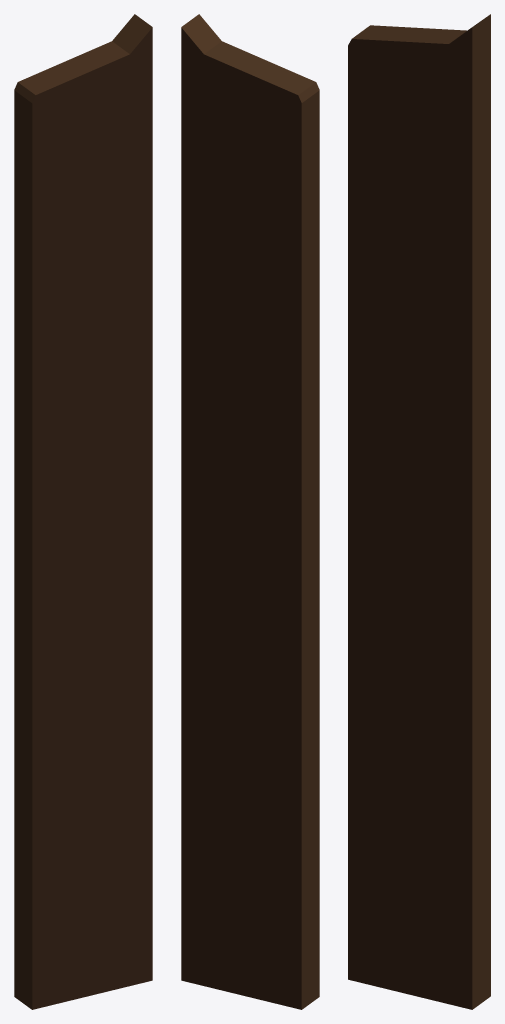
File: Cave_Lair_Wooden_Timber_Plank_05.fbx
3 views of the same model, side by side, from view 1: azimuth 30°, elevation 25°; view 2: azimuth 150°, elevation 25°; view 3: azimuth 330°, elevation 25° (orthographic). The views are drawn at different scales.
Parts seen in each view (by area): view 1: Cave_Lair_Wooden_Timber_Plank_05; view 2: Cave_Lair_Wooden_Timber_Plank_05; view 3: Cave_Lair_Wooden_Timber_Plank_05.
Boxes of the visible parts, x1=… form: Cave_Lair_Wooden_Timber_Plank_05: x1=14, y1=14, x2=152, y2=1009; Cave_Lair_Wooden_Timber_Plank_05: x1=181, y1=14, x2=319, y2=1009; Cave_Lair_Wooden_Timber_Plank_05: x1=348, y1=14, x2=490, y2=1009.
Size of the model in its own units: 0.1809 by 1.37 by 0.0468.
